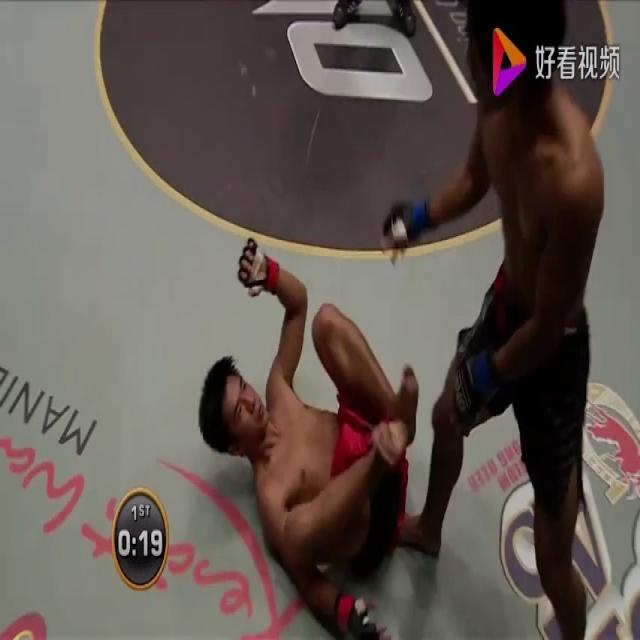fight: (169, 0, 639, 639)
